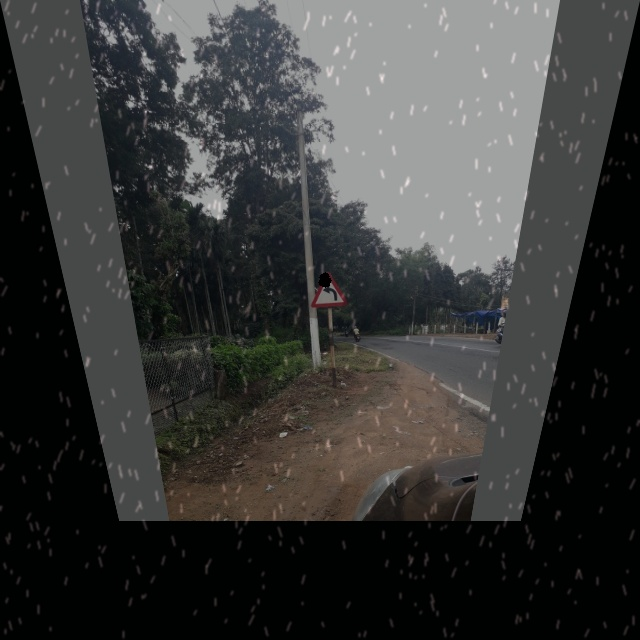Left_Hand_Curve: (311, 269, 346, 306)
